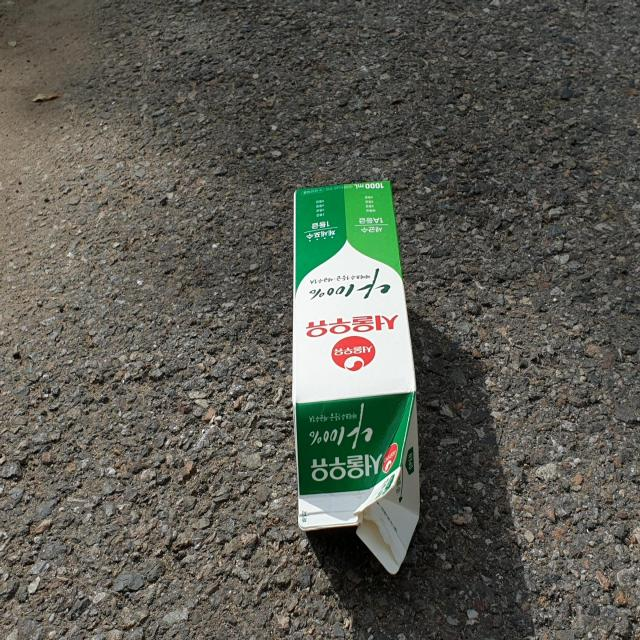paperpack: (292, 180, 420, 574)
